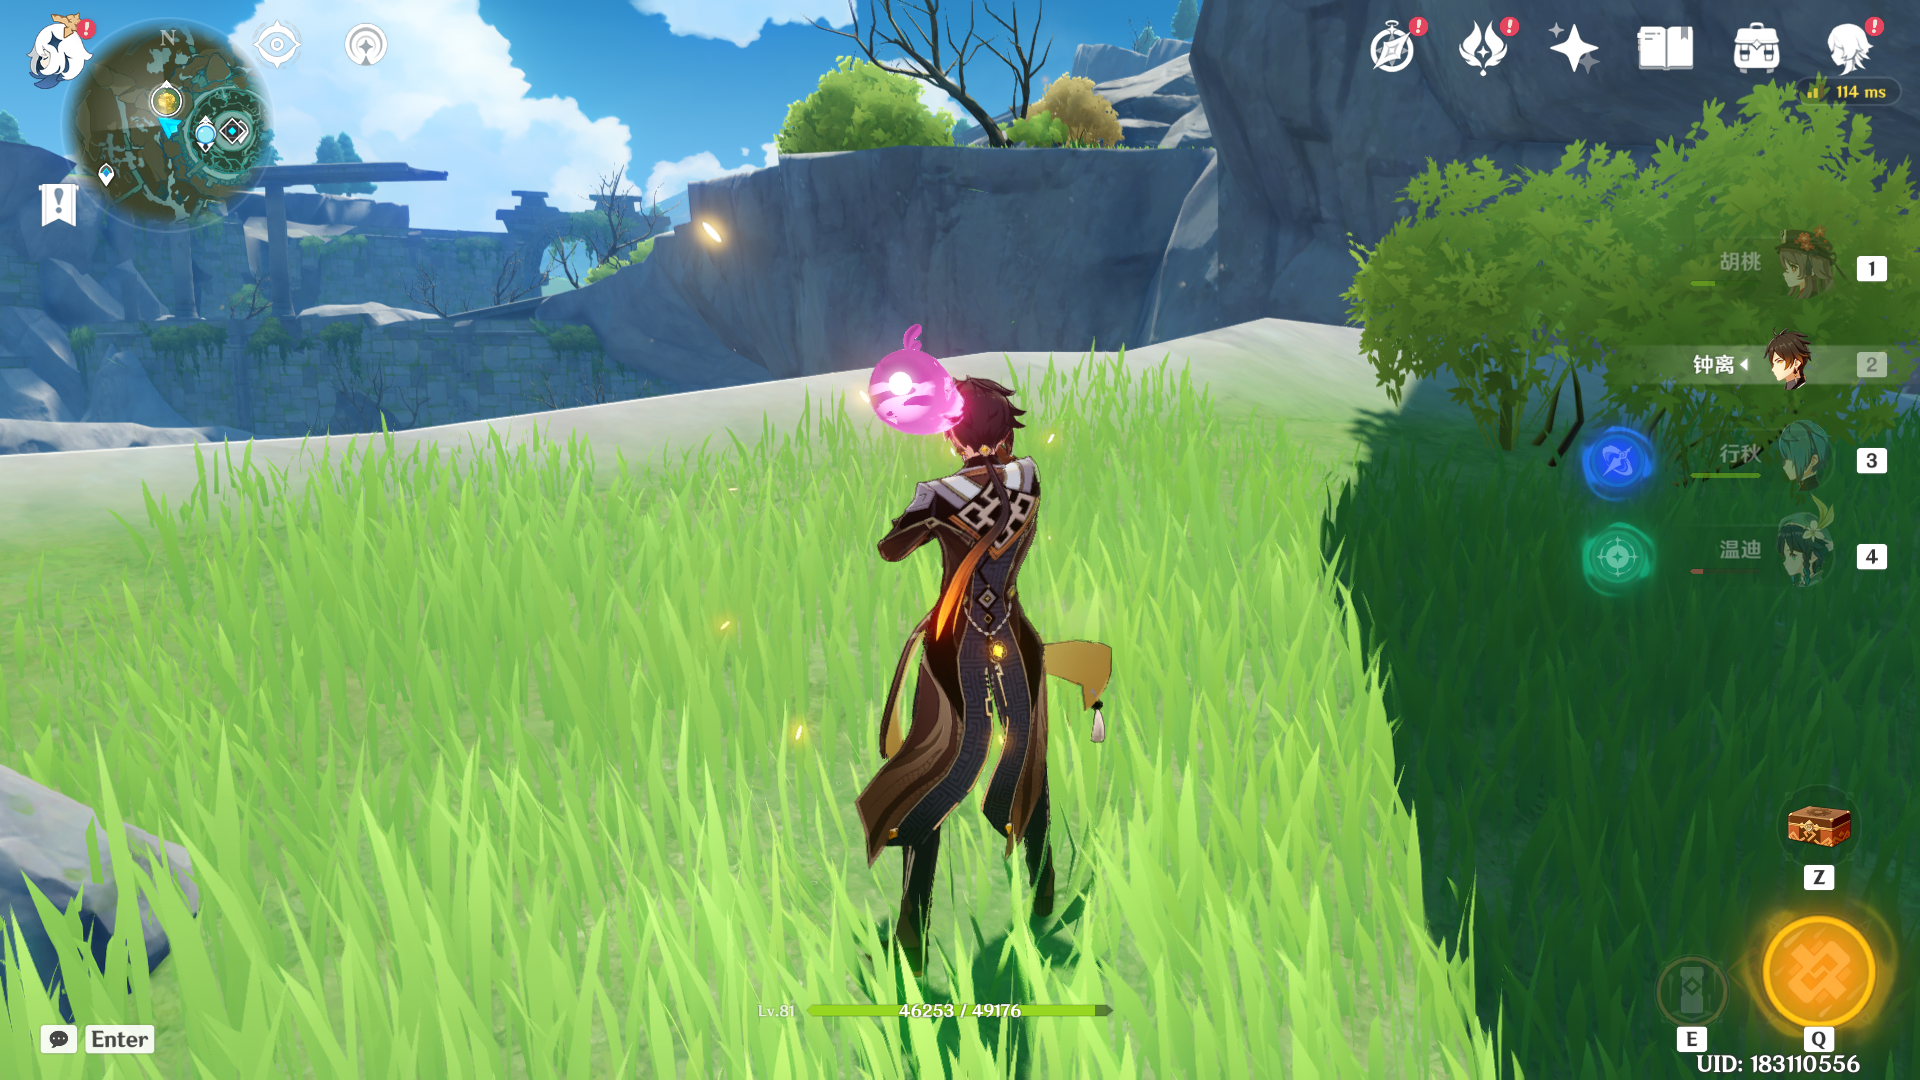character: (807, 301, 1179, 971)
